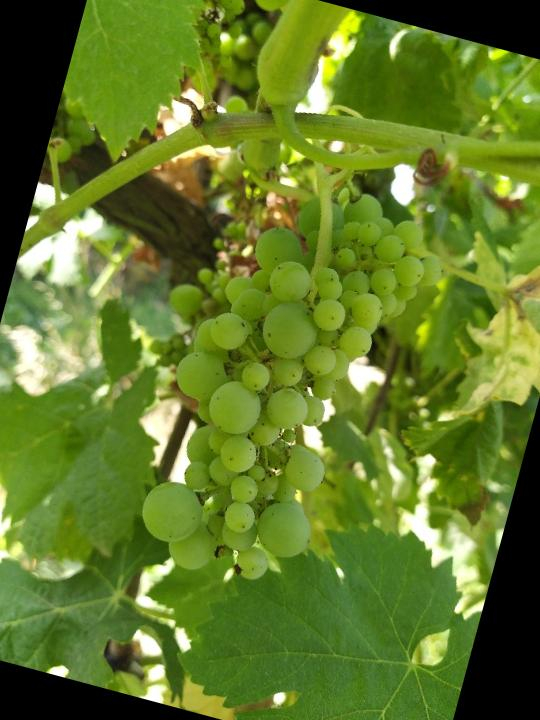grape: (121, 155, 461, 618)
